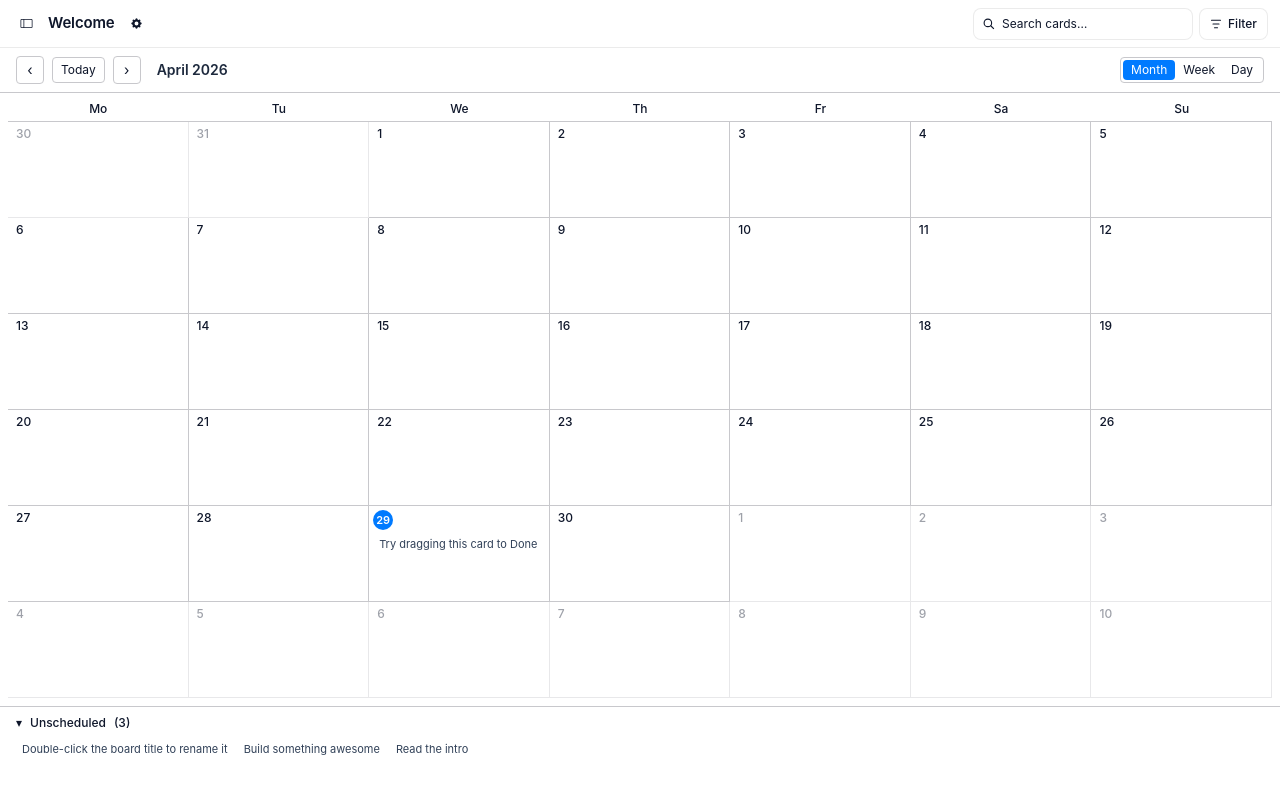
Test: BoardCalendarView › clicking a day cell opens the New card modal with the date pre-filled
Click the cell "29 Try dragging this card to Done" at (459, 554), box 369,506 -> 550,602
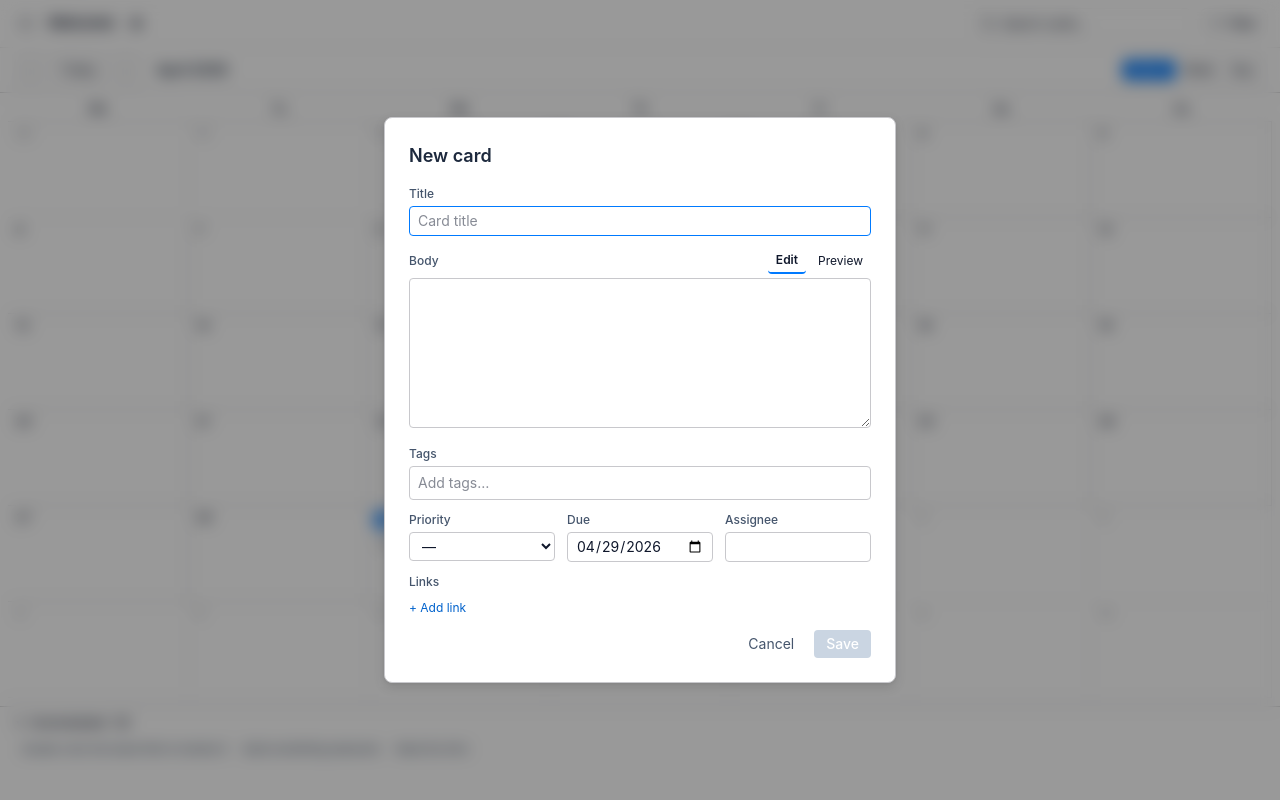
expect the heading "New card" is shown: met, box 409,145 -> 492,166
